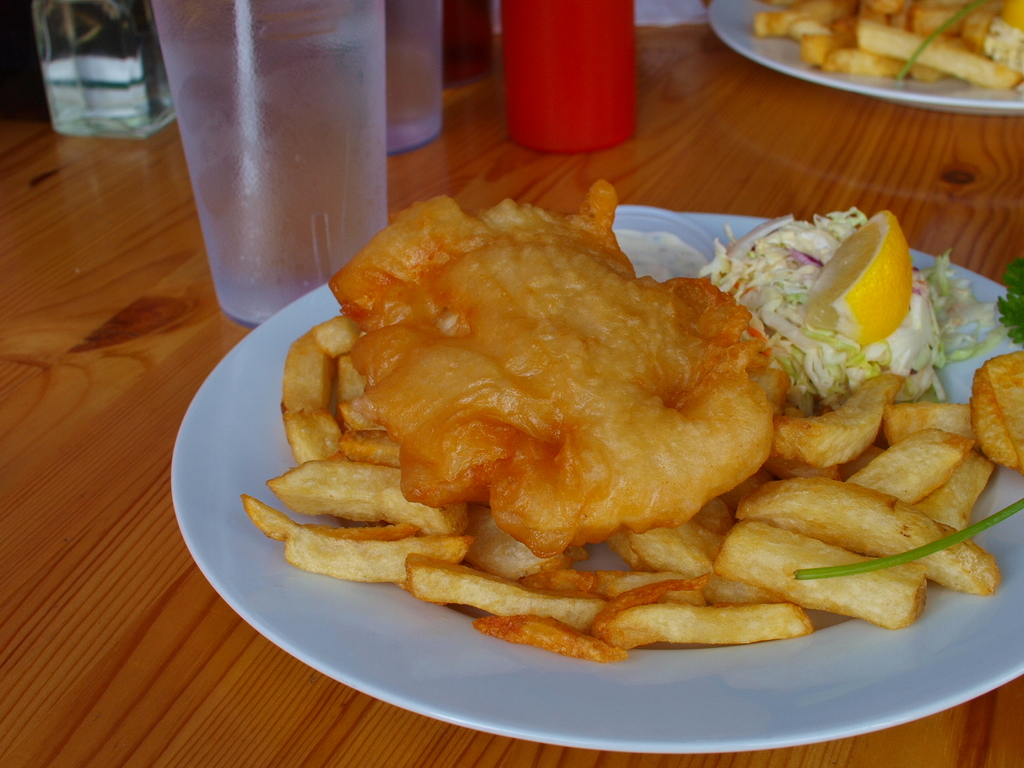French fries: (209, 192, 952, 672), (752, 0, 1022, 92)
